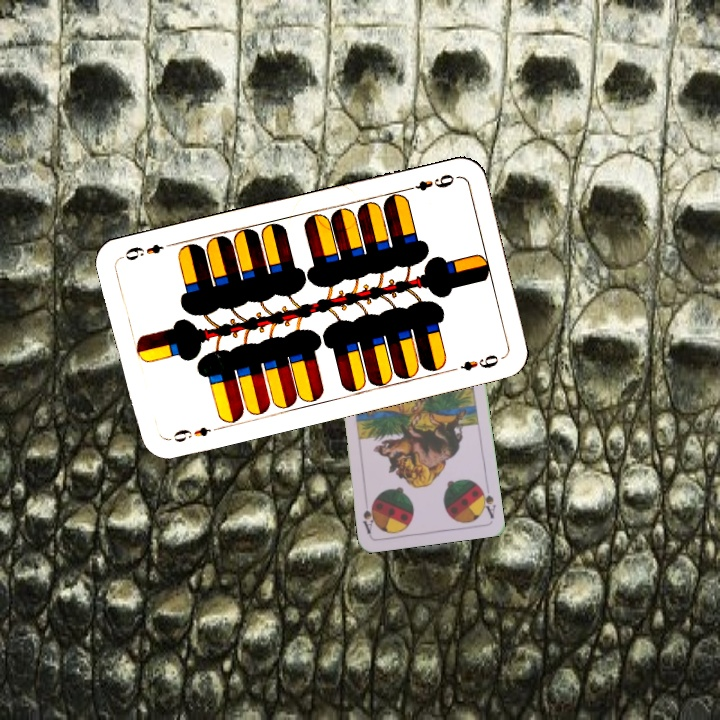E9: (163, 422, 222, 445), (401, 170, 457, 194)
SA: (475, 481, 498, 521)
